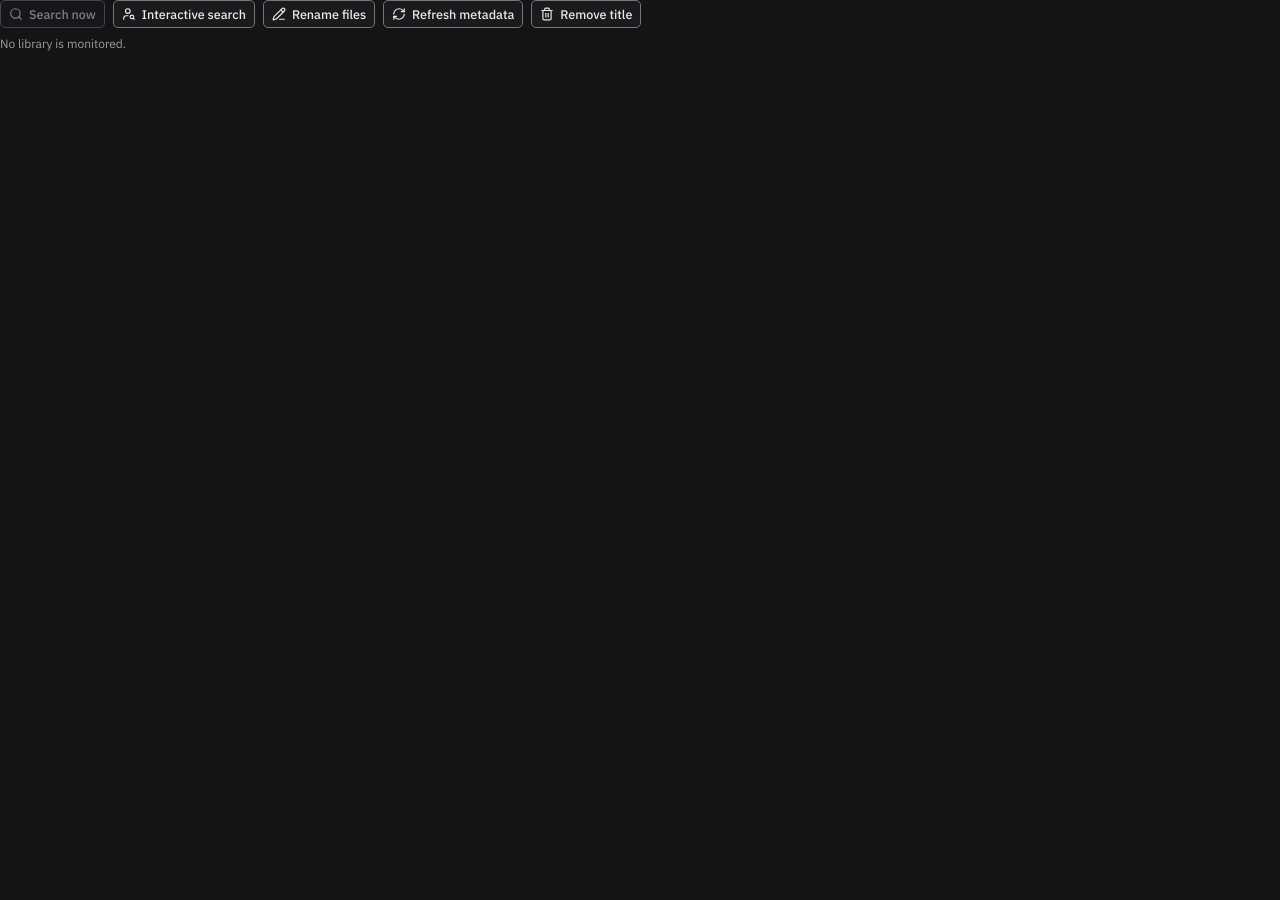
Scenario: says the names match only when nothing would change and nothing was skipped
Click the button with test id "title-rename" at {"x": 319, "y": 14}, box [263, 0, 375, 28]
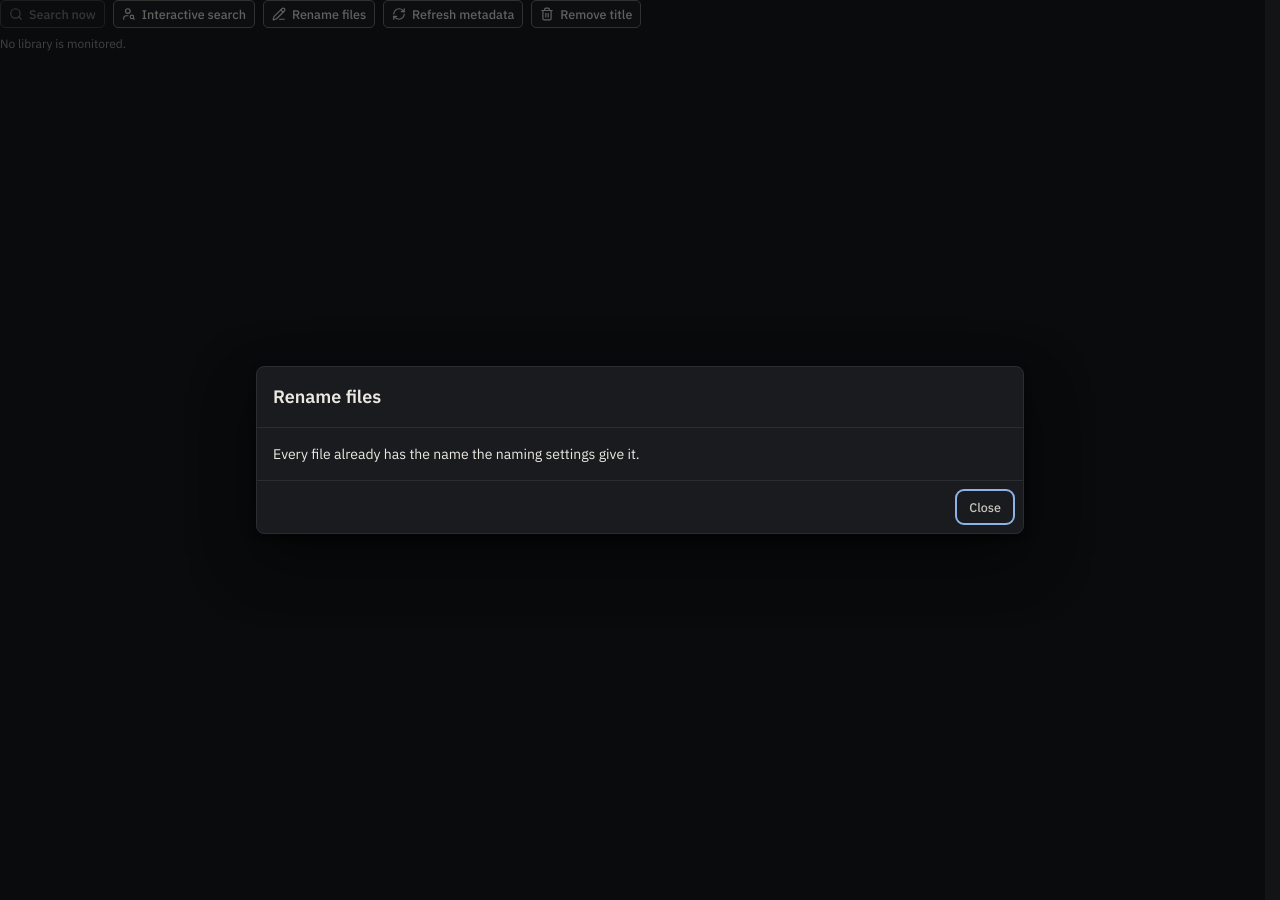
Now the text with test id "rename-none" reads "Every file already has the name the naming settings give it.", box [273, 445, 640, 463]
Now the button "Close" is shown, box [959, 493, 1011, 521]
